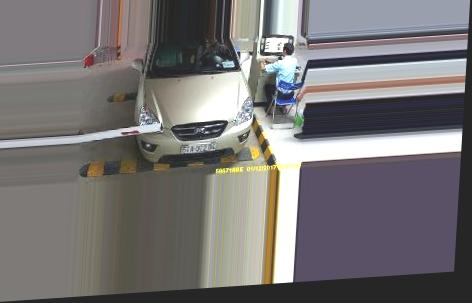License_Plate: (179, 140, 218, 153)
